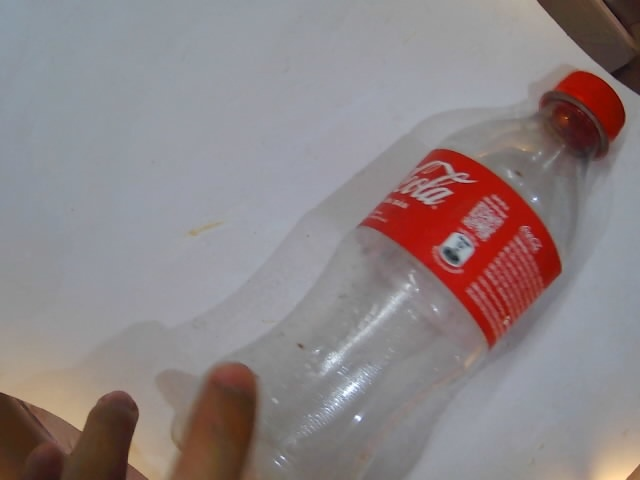plastic: (104, 67, 635, 480)
